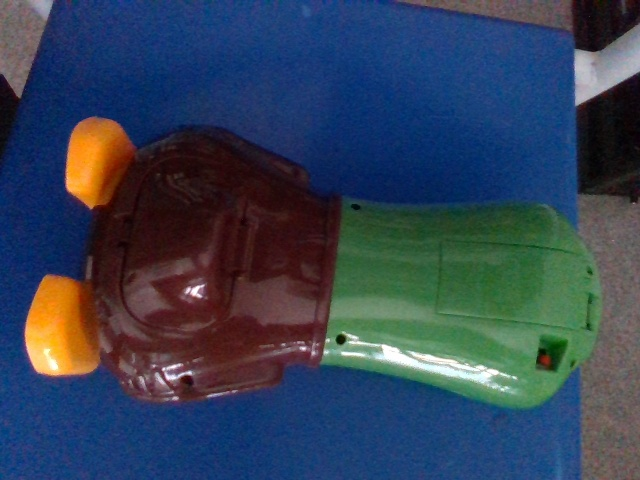screw hole: (183, 375, 195, 387), (335, 333, 346, 345), (350, 202, 361, 211), (570, 358, 577, 369), (586, 268, 594, 275)
toy: (25, 115, 604, 411)
